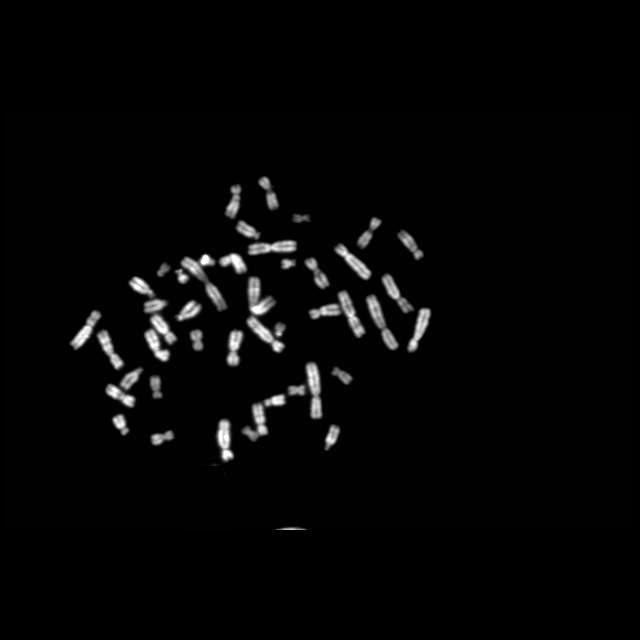chromosome: (182, 257, 226, 311), (366, 294, 398, 350), (247, 316, 285, 352), (335, 244, 371, 280), (70, 310, 102, 350), (382, 274, 413, 314), (338, 292, 364, 338), (98, 330, 124, 370), (406, 308, 429, 352), (248, 278, 276, 314), (306, 362, 322, 418), (397, 228, 423, 260), (150, 313, 176, 343), (145, 330, 169, 362), (216, 421, 234, 462), (306, 258, 328, 290), (356, 218, 379, 248), (248, 241, 296, 255), (258, 177, 278, 210), (106, 384, 134, 406), (227, 330, 243, 366), (129, 276, 155, 298), (252, 402, 268, 436), (220, 253, 247, 273), (176, 300, 202, 320), (121, 367, 143, 389), (310, 303, 340, 319), (226, 186, 240, 218), (324, 425, 340, 451), (237, 221, 260, 239), (113, 414, 129, 436), (332, 368, 352, 384), (152, 430, 174, 444), (241, 426, 259, 442), (144, 300, 166, 312), (150, 376, 162, 398), (190, 331, 202, 352), (266, 394, 284, 406), (176, 268, 188, 284), (292, 213, 310, 223), (200, 254, 214, 266), (288, 386, 304, 396), (158, 264, 170, 276), (281, 259, 295, 269), (275, 324, 285, 336)
